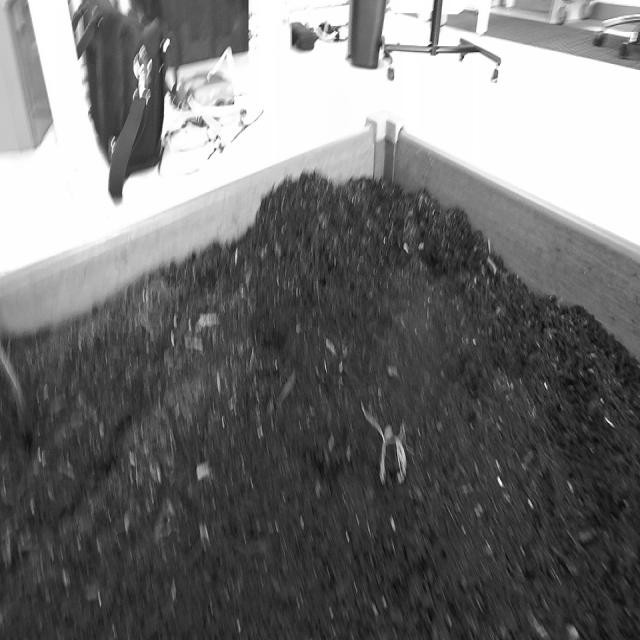Healthy: (356, 393, 416, 496)
